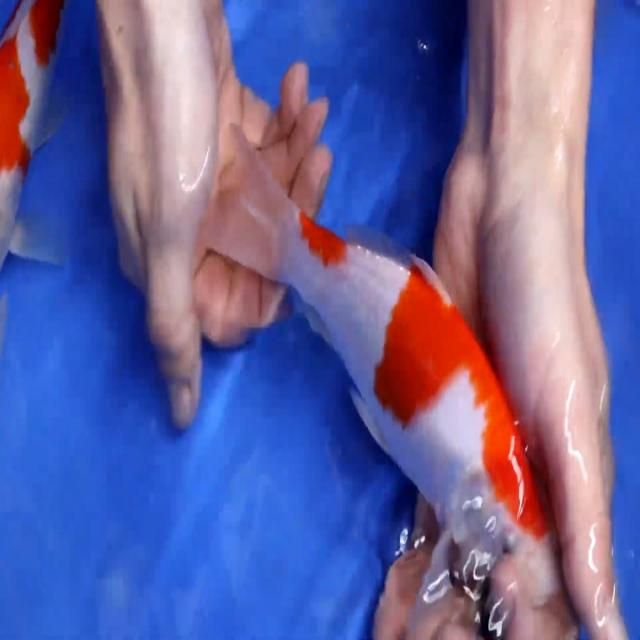Kohaku: (201, 113, 566, 610), (0, 0, 78, 358)
